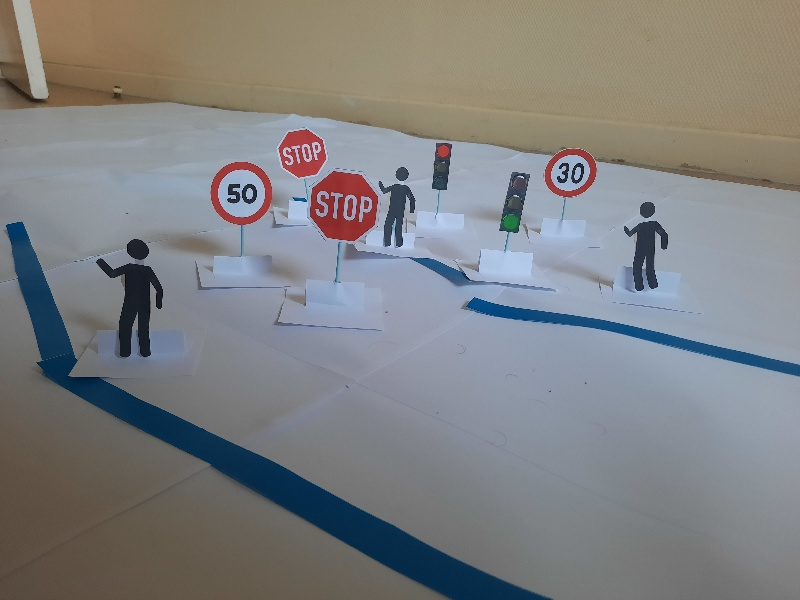Green: (502, 171, 526, 231)
Limit 30: (546, 147, 598, 195)
Limit 50: (212, 162, 271, 225)
Person: (102, 242, 162, 358), (624, 200, 668, 287), (380, 169, 414, 244)
Red: (432, 141, 449, 192)
Stop: (306, 171, 377, 245), (277, 129, 327, 177)
